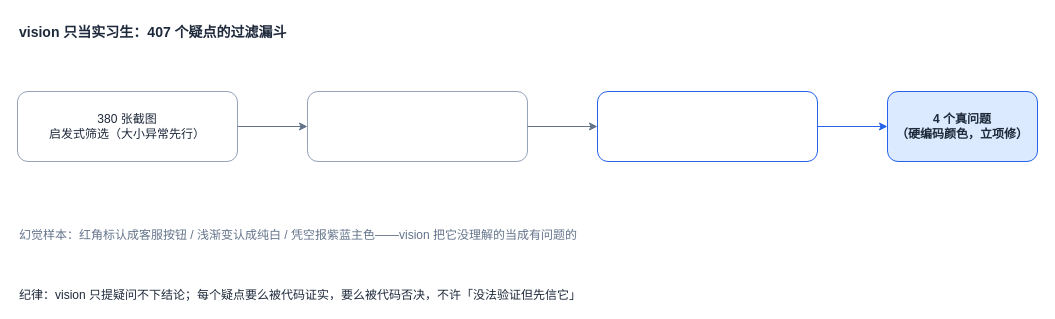
The diagram is 1055 pixels wide and 319 high, and some of its shapes have lost their labels. The centre of each missing label's shape, as x and y in pixels:
18 张代表页 vision 深审，报 407 个疑点: (x=417, y=126)
代码审计交叉验证 design token + DOM 计算样式扫描: (x=707, y=126)
